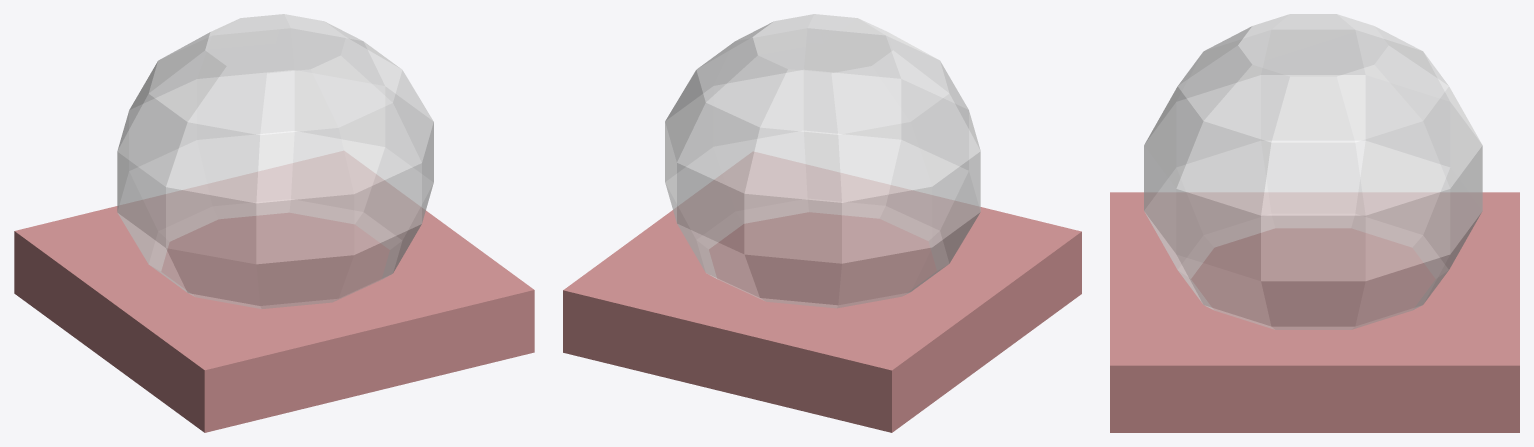
Rendered from car_red_x.dae.
3 views of the same model, side by side, from view 1: azimuth 30°, elevation 25°; view 2: azimuth 150°, elevation 25°; view 3: azimuth 270°, elevation 25° (orthographic). The views are drawn at different scales.
Parts seen in each view (by area): view 1: car_red_006; view 2: car_red_006; view 3: car_red_006.
Part boxes in pixels (x1,y1,x2,y2): car_red_006: (14,14,534,432); car_red_006: (563,14,1081,432); car_red_006: (1110,14,1519,432).
Size of the model in its own units: 0.6326 by 0.6326 by 0.5131.
